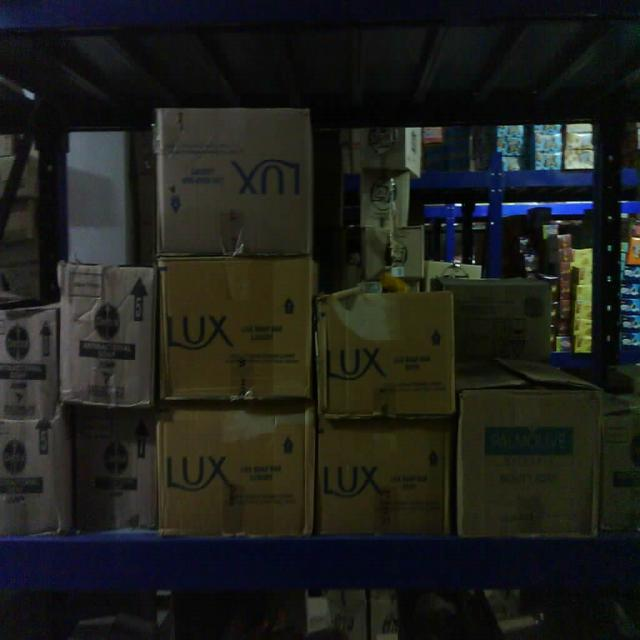cardboxes: (156, 103, 312, 258), (152, 402, 315, 536), (160, 262, 314, 402), (458, 385, 598, 537), (314, 294, 456, 414), (317, 415, 452, 531), (58, 260, 156, 409), (70, 408, 156, 538), (0, 416, 66, 534), (0, 302, 60, 412)
